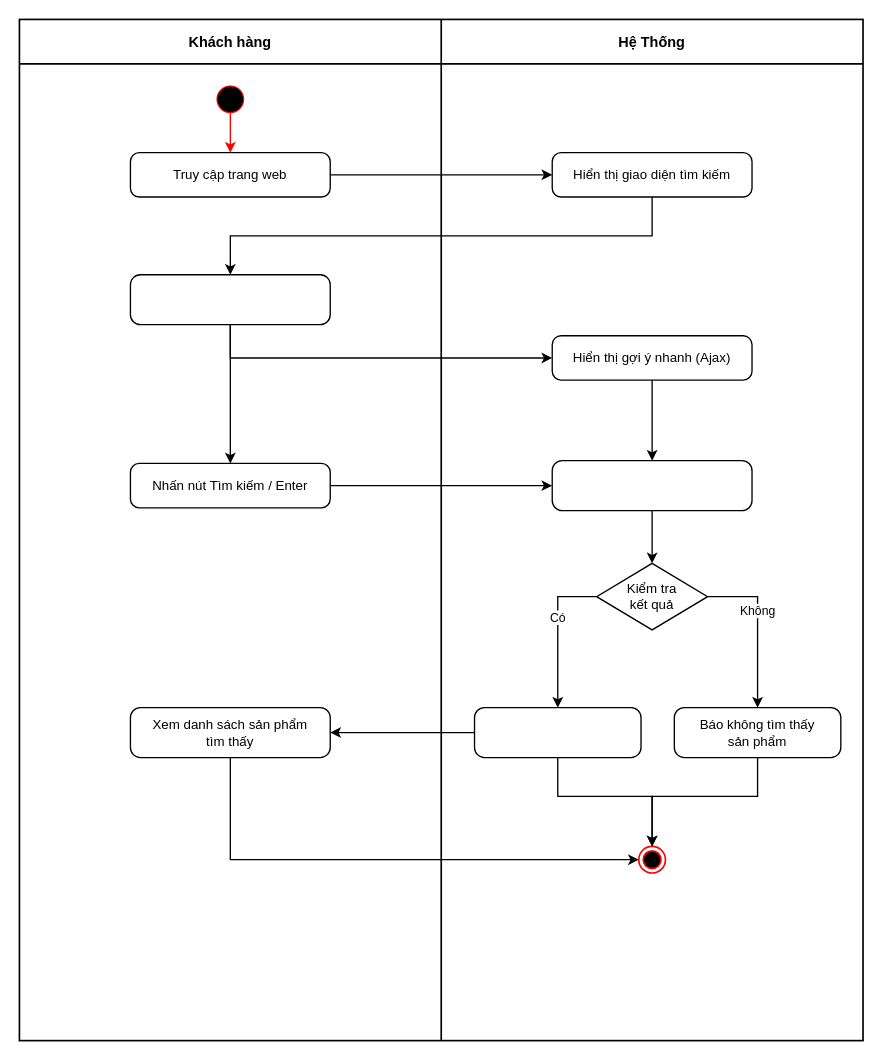
This 885x1062 diagram has some shape labels left out. The box of each missing label's shape, as (x1, y1, x2, y2) in pixels:
Hiển thị danh sách kết quả: (473, 706, 641, 758)
Nhập từ khóa tìm kiếm vào ô Search: (129, 274, 330, 325)
Tiếp nhận từ khóa và truy vấn CSDL: (551, 459, 752, 511)
